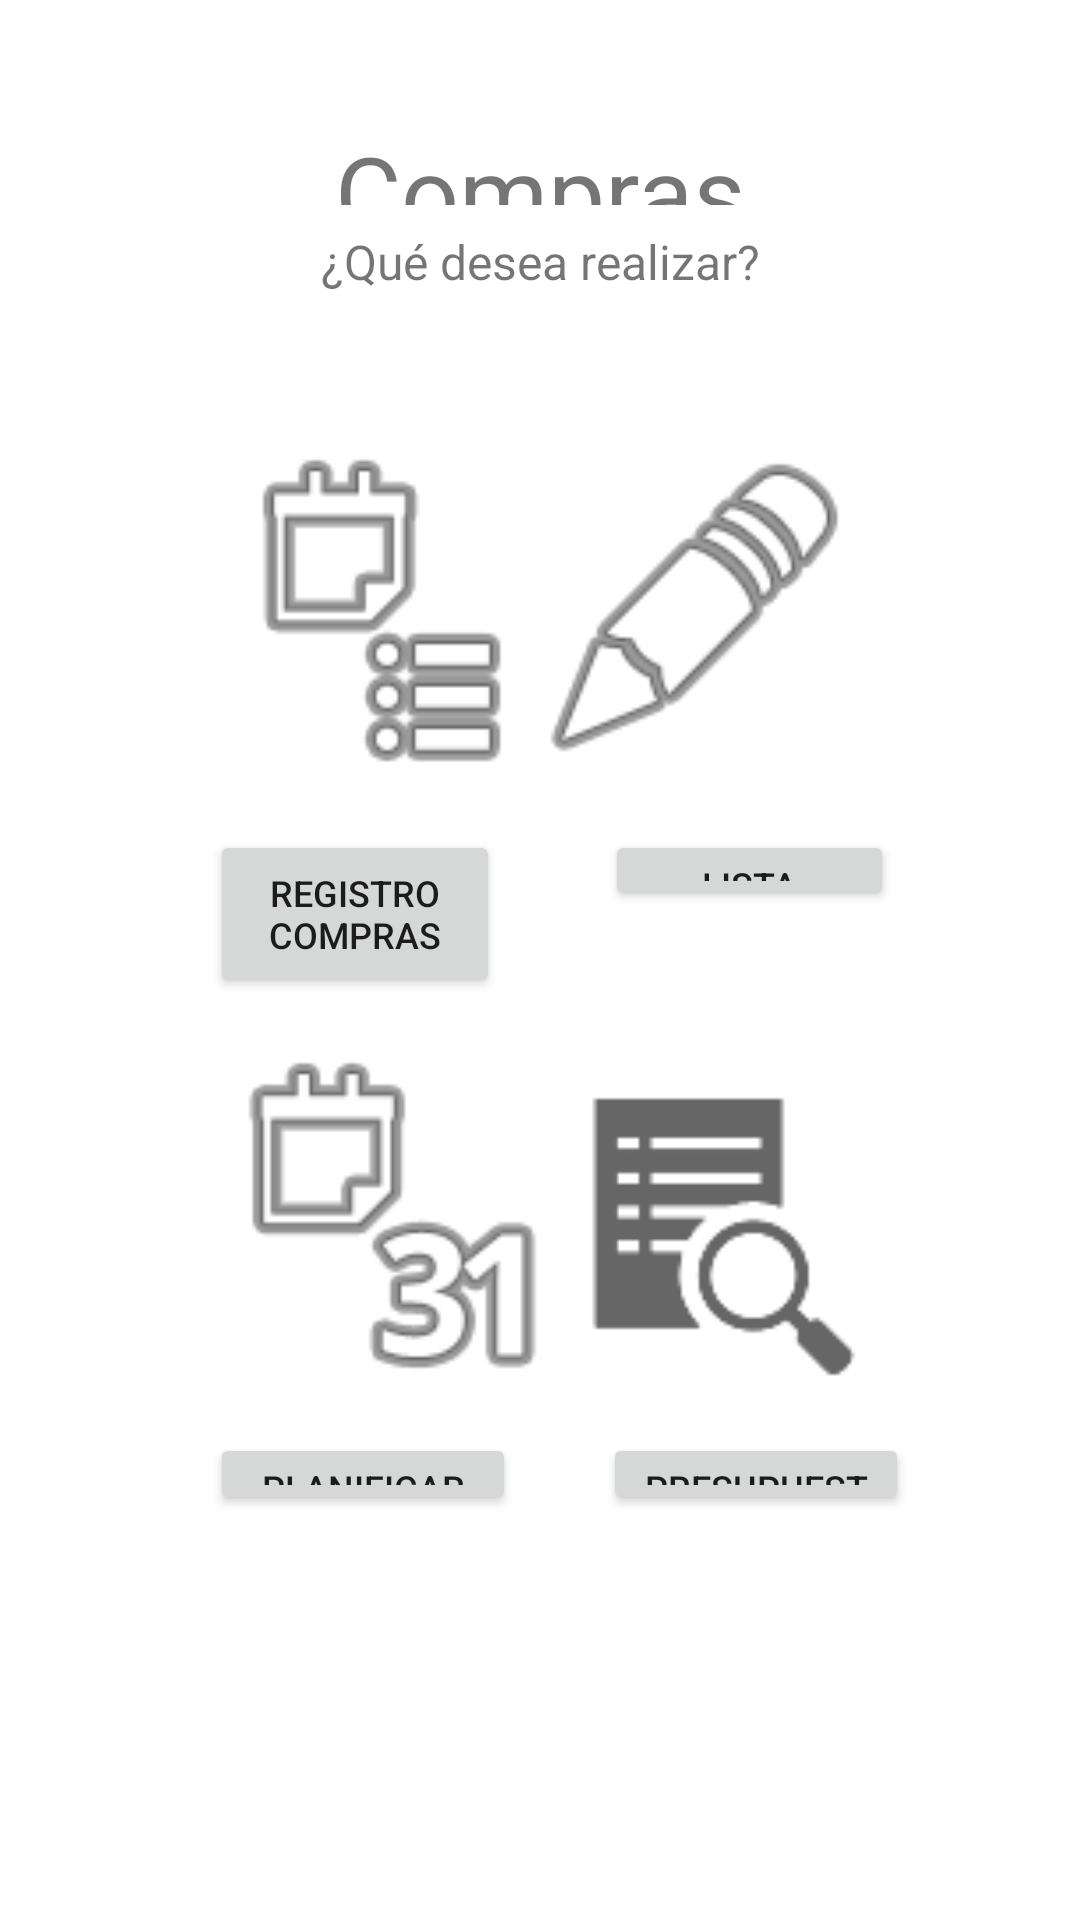

Named icons in this screenshot (1080*1920) and their centers, [x,y]:
agenda: [382,611]
edit: [694,607]
month: [392,1215]
